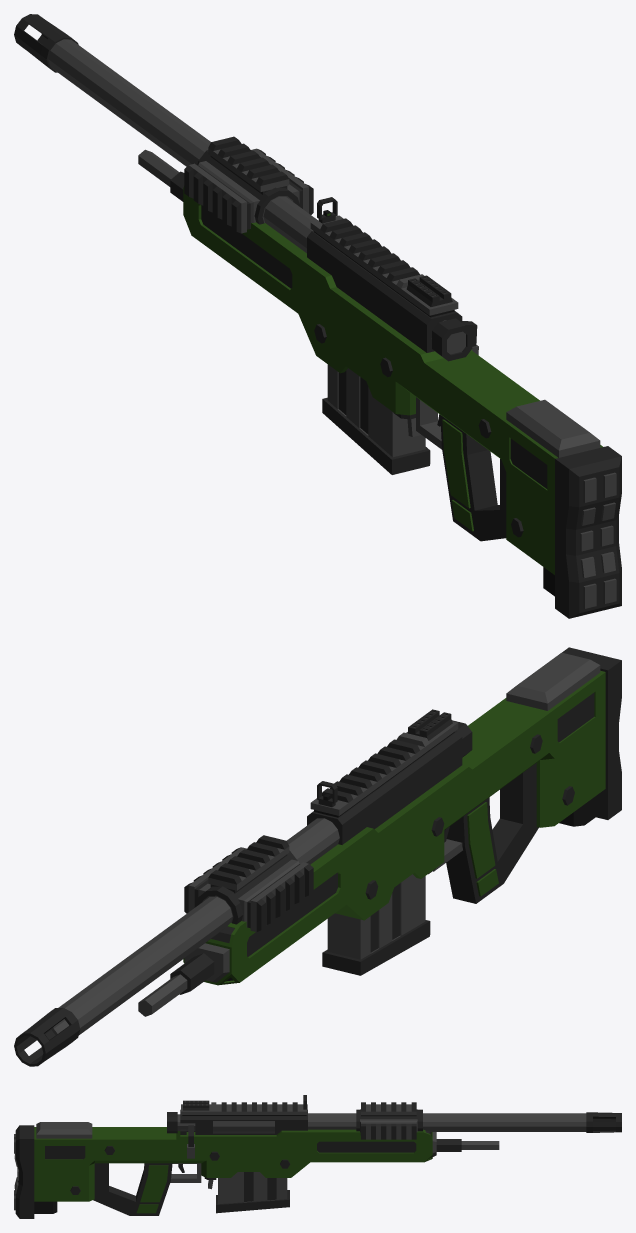
The model's file is bolt-action-sniper-named-nodes.glb.
3 renders of one model, top to bottom at view 1: azimuth 30°, elevation 25°; view 2: azimuth 150°, elevation 25°; view 3: azimuth 270°, elevation 25°, orthographic. The views are drawn at different scales.
Visible parts, largest first — view 1: AWM, AWM mag, AWM bolt action; view 2: AWM, AWM mag; view 3: AWM, AWM mag, AWM bolt action.
Part boxes in pixels (x1,y1,x2,y2): AWM: [14, 14, 621, 618]; AWM mag: [322, 364, 430, 474]; AWM bolt action: [431, 318, 478, 361]; AWM: [14, 647, 621, 1066]; AWM mag: [322, 874, 430, 975]; AWM: [14, 1095, 621, 1218]; AWM mag: [216, 1172, 289, 1213]; AWM bolt action: [167, 1112, 274, 1158].
Size of the model in its own units: 0.2738 by 0.7187 by 3.41.
Materials: 1 (1 with a texture image).
